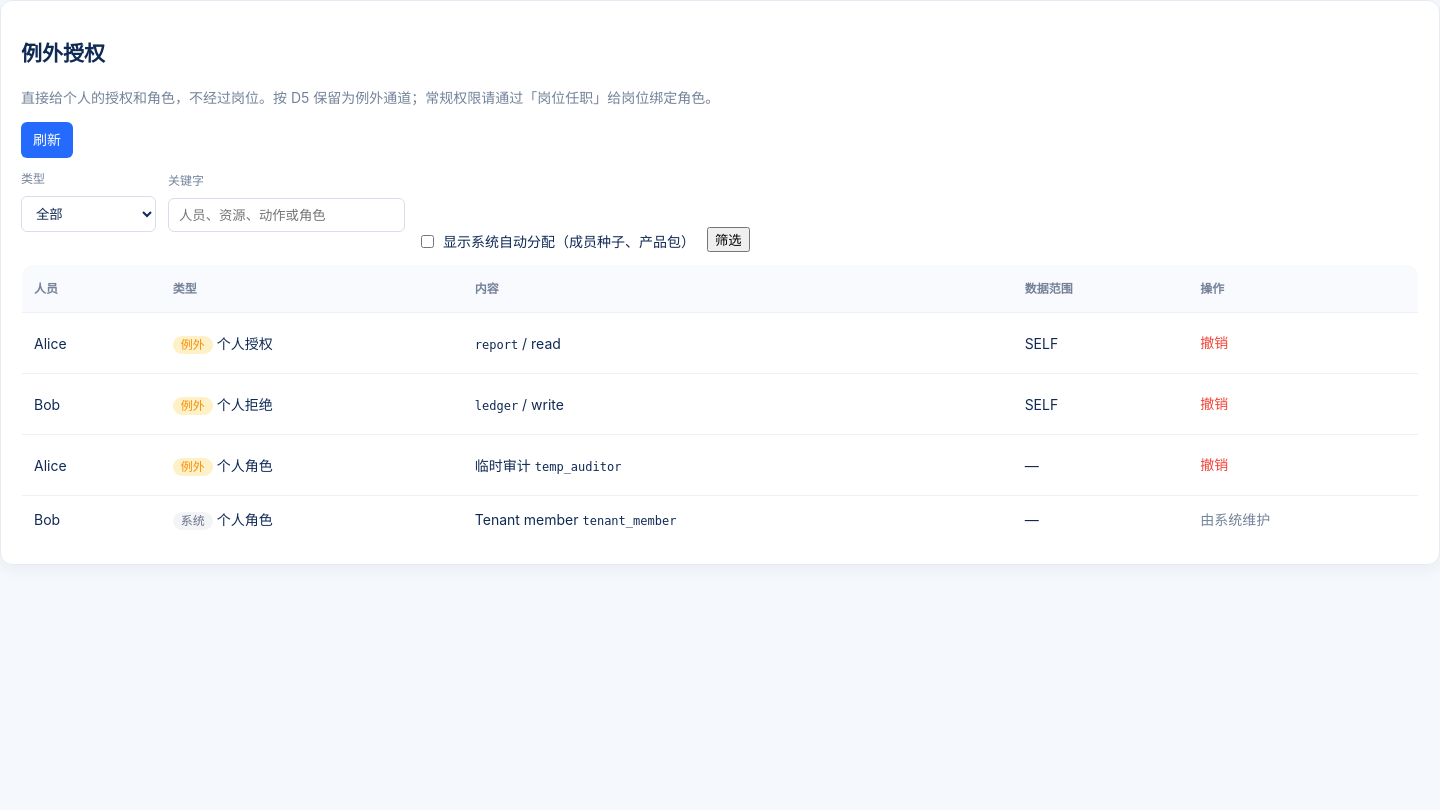
Test case: PLA4 exception grants panel › explains a refused revoke
Click the button "撤销" in the row of "个人授权".
click(1214, 343)  # box [1200,325,1228,361]
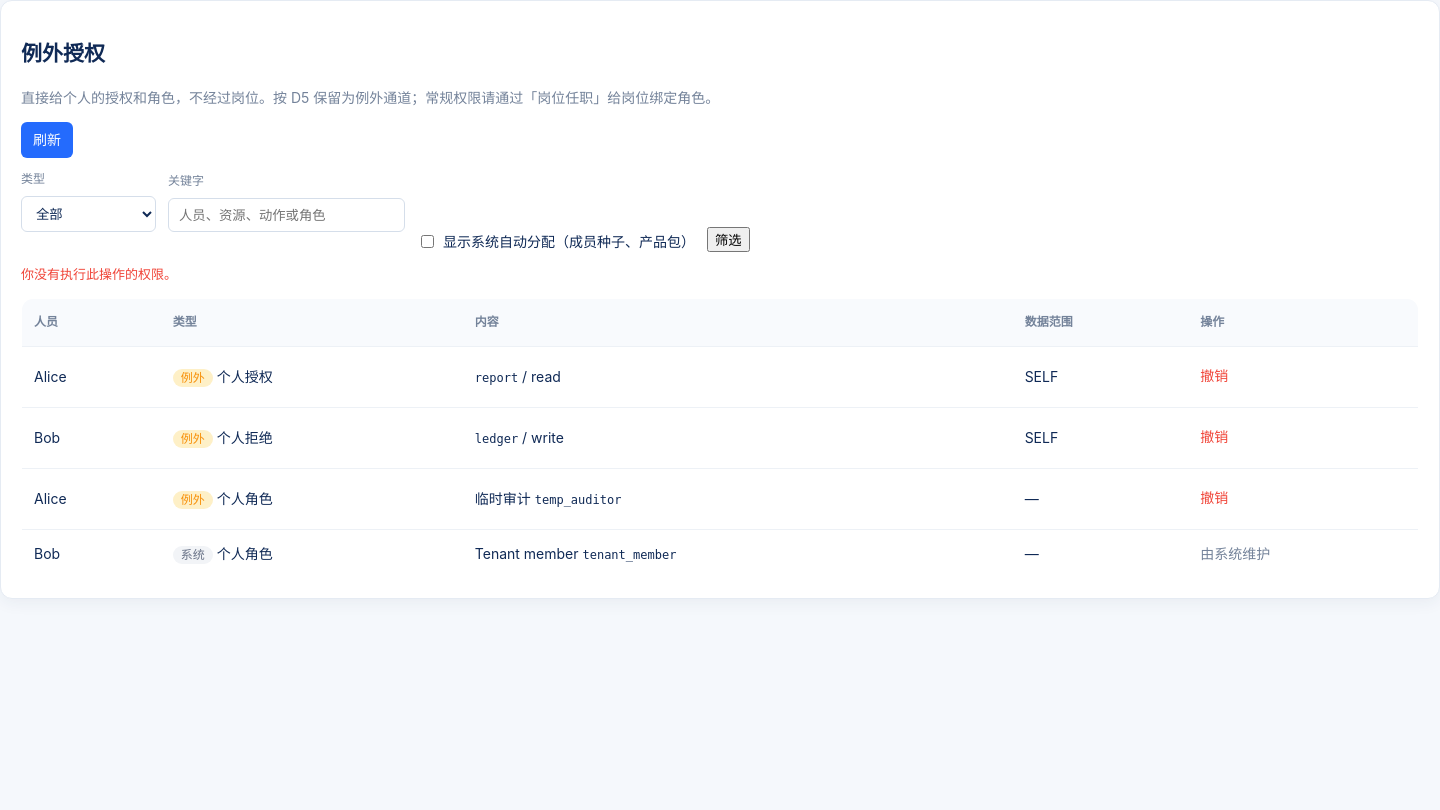
Expected: the row "Alice 例外 个人授权 report / read SELF 撤销" is shown, [22,346,1418,407]
Now the text "你没有执行此操作的权限" is shown, box [21,266,177,282]
